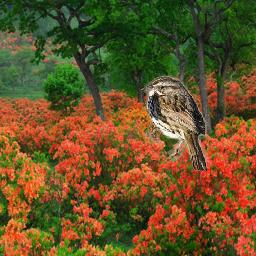Sparrow: (141, 75, 207, 172)
